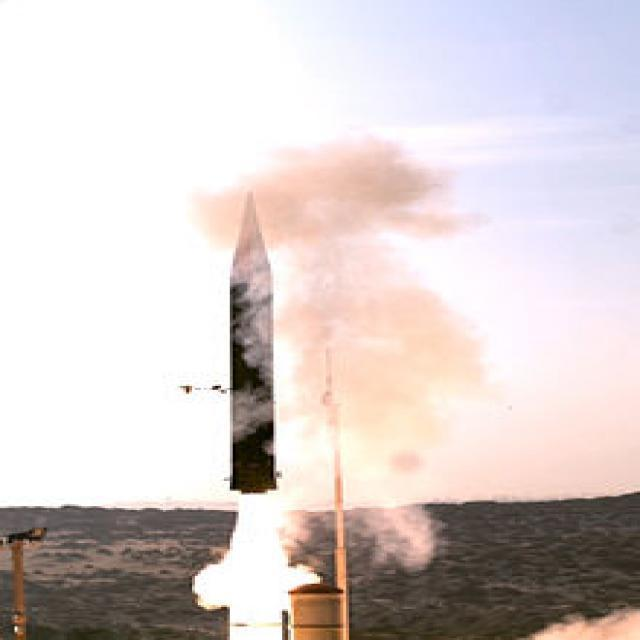missile: (220, 175, 290, 502)
